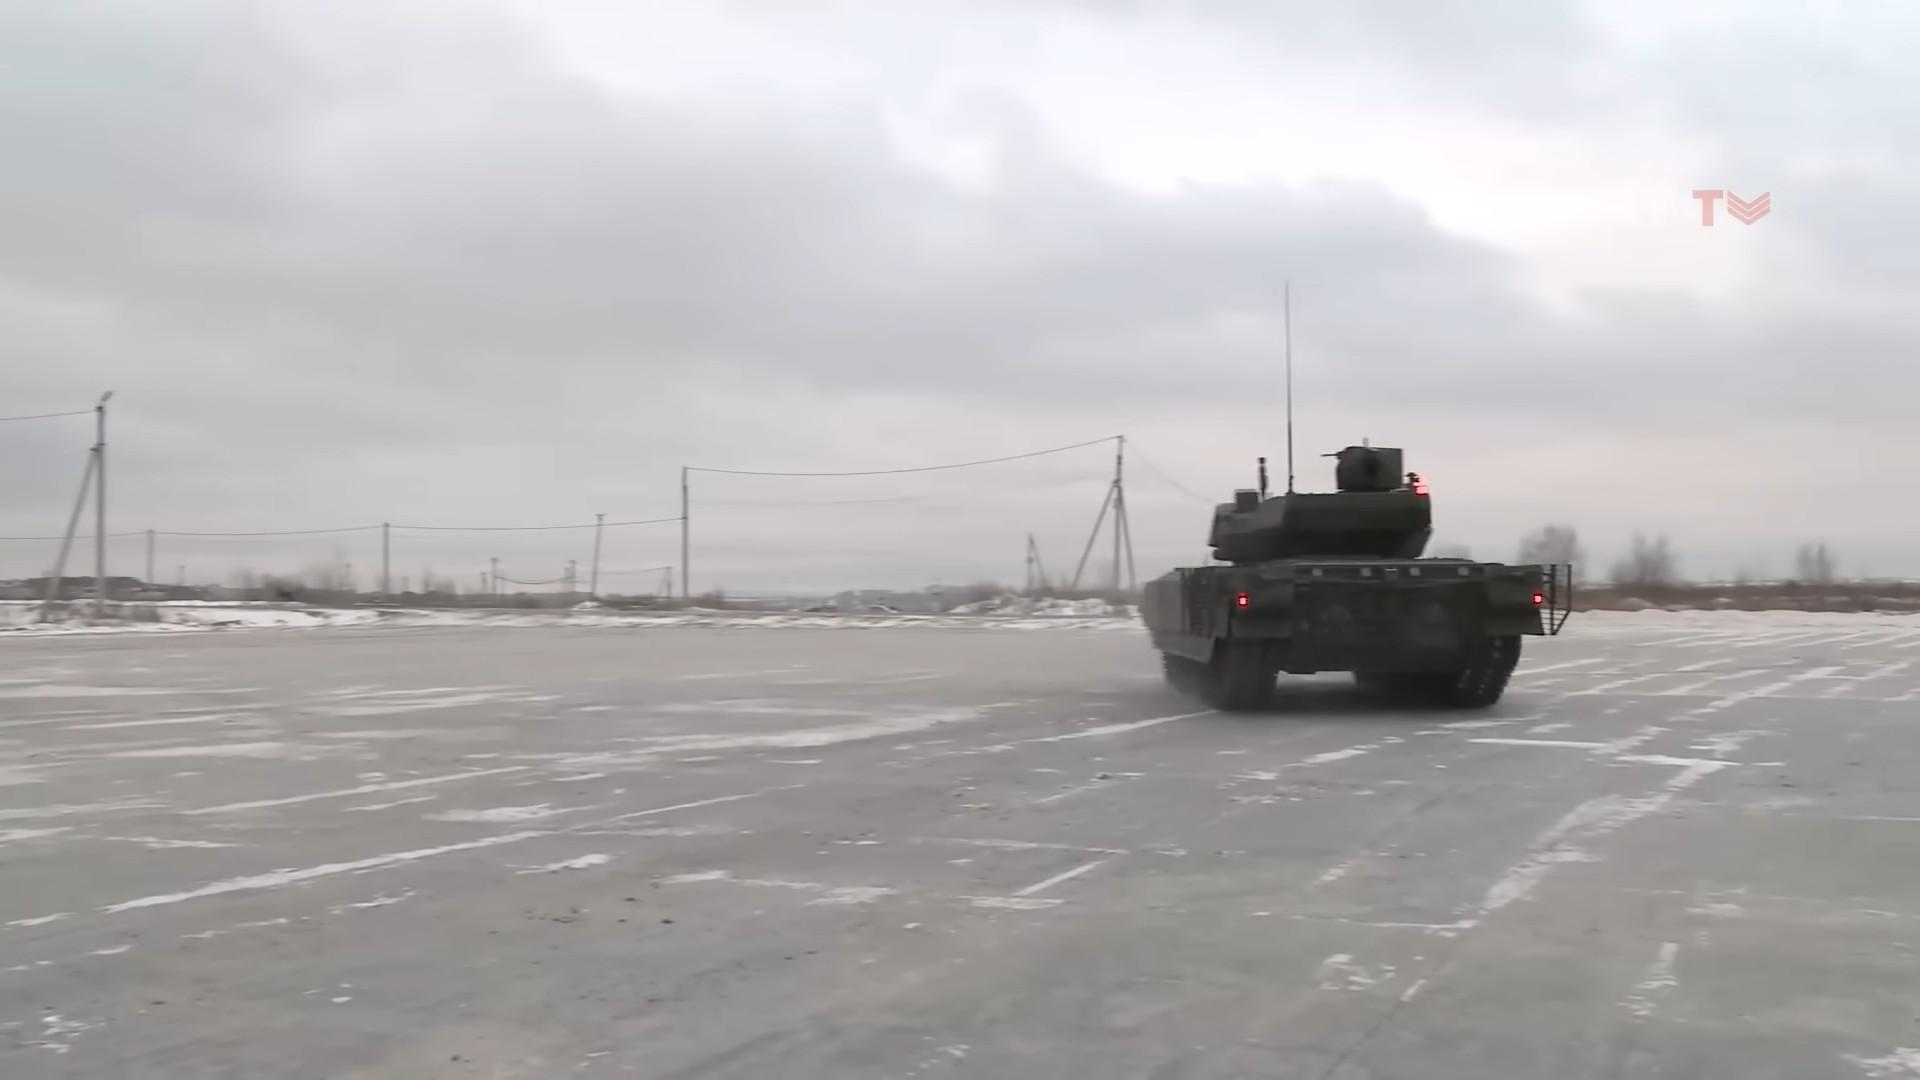tank: (1138, 447, 1572, 709)
